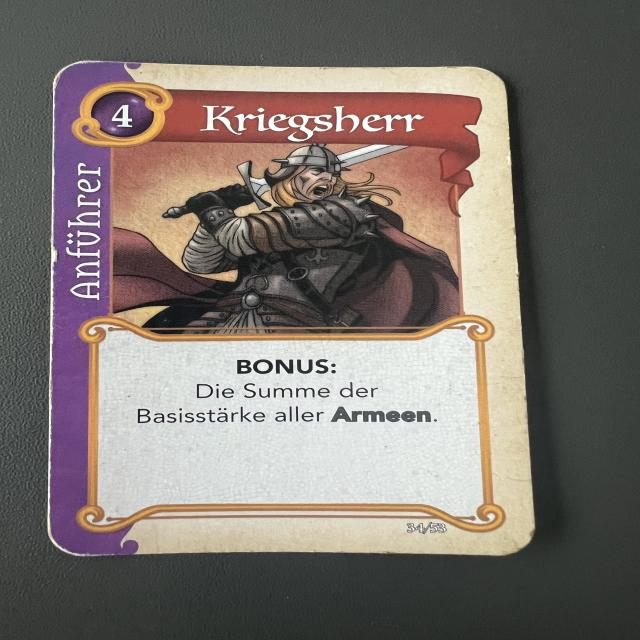Warlord: (39, 56, 543, 563)
